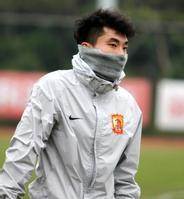WRONG: (91, 35, 128, 75)
